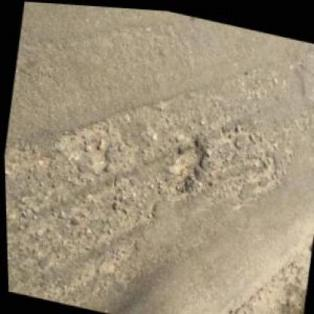Hueco: (165, 130, 208, 192)
